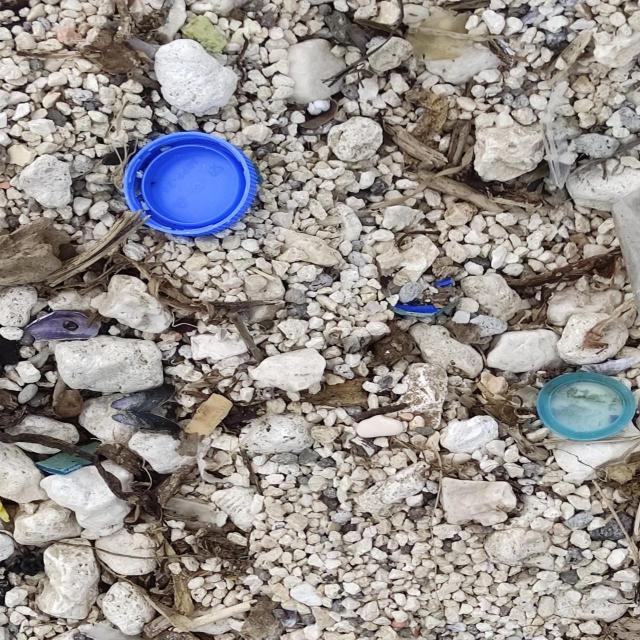plastic_waste: (122, 130, 262, 240), (535, 370, 639, 444)
